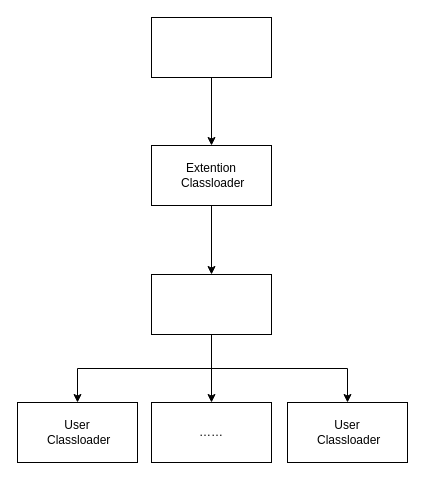
The diagram is 425 pixels wide and 480 high, and some of its shapes have lost their labels. Here are the shapes that lost their labels. From the top down, the centre of each, then its label:
At [211,47]: "Bootstrap Classloader".
At [211,304]: "Application Classloader".
